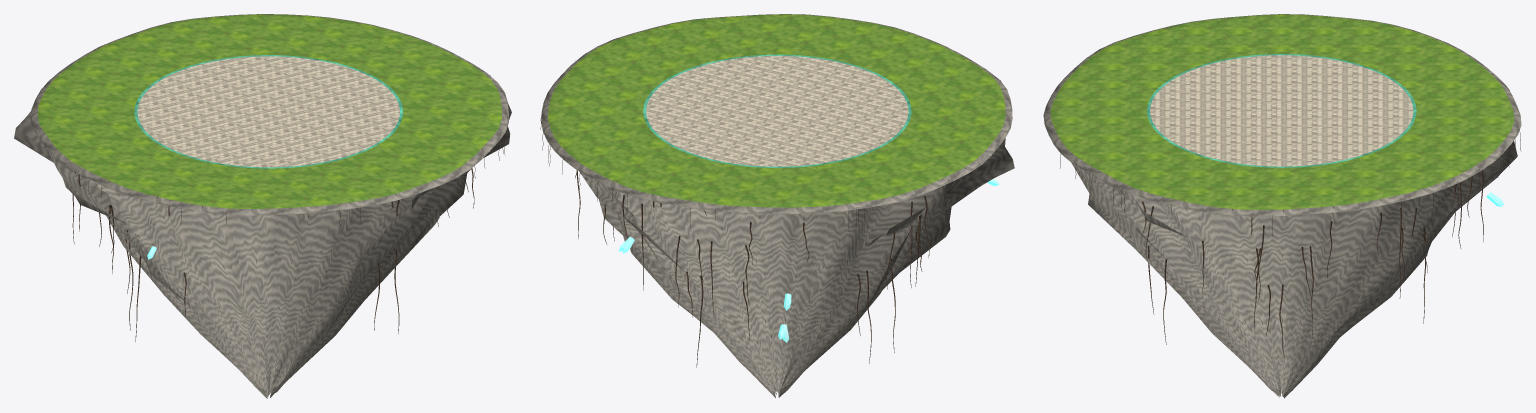
The model's file is sky_platform_palace.glb.
3 renders of one model, left to right at view 1: azimuth 30°, elevation 25°; view 2: azimuth 150°, elevation 25°; view 3: azimuth 270°, elevation 25°, orthographic.
Visible parts, largest first — view 1: IslandTop-col, IslandRock, IslandRoots; view 2: IslandTop-col, IslandRock, IslandRoots, IslandCrystals; view 3: IslandTop-col, IslandRock, IslandRoots.
Part boxes in pixels (box(x1,y1,x2,y2)): IslandTop-col: box(30, 14, 508, 215); IslandRock: box(14, 103, 511, 398); IslandRoots: box(35, 75, 509, 341); IslandTop-col: box(541, 14, 1012, 213); IslandRock: box(579, 138, 1014, 397); IslandRoots: box(540, 53, 1003, 367); IslandCrystals: box(618, 179, 999, 342); IslandTop-col: box(1043, 14, 1521, 216); IslandRock: box(1071, 141, 1517, 398); IslandRoots: box(1059, 88, 1521, 358).
Size of the model in its own units: 97.63 by 62.71 by 94.32.
Materials: 6 (5 with a texture image).
